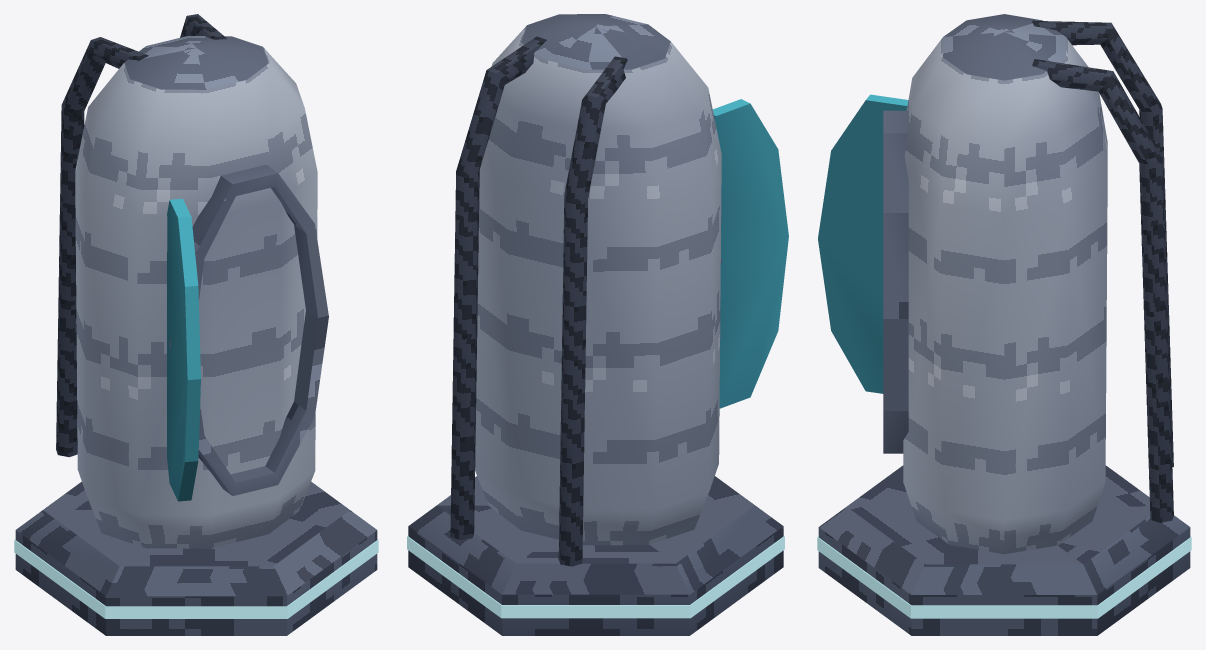
The model's file is tech.cryo_pod__open.glb.
3 renders of one model, left to right at view 1: azimuth 30°, elevation 25°; view 2: azimuth 150°, elevation 25°; view 3: azimuth 270°, elevation 25°, orthographic. The views are drawn at different scales.
Parts seen in each view (by area): view 1: kit_shell, kit_plinth, kit_frame, kit_hoses, kit_window, kit_band; view 2: kit_shell, kit_plinth, kit_hoses, kit_window, kit_band; view 3: kit_shell, kit_plinth, kit_hoses, kit_window, kit_frame, kit_band.
Boxes of the visible parts, left/top/right/bottom form: kit_shell: left=75, top=36, right=317, bottom=548; kit_plinth: left=15, top=481, right=377, bottom=635; kit_frame: left=169, top=164, right=328, bottom=495; kit_hoses: left=56, top=14, right=226, bottom=457; kit_window: left=167, top=198, right=200, bottom=501; kit_band: left=14, top=539, right=378, bottom=618; kit_shell: left=475, top=14, right=721, bottom=545; kit_plinth: left=408, top=476, right=783, bottom=635; kit_hoses: left=450, top=36, right=627, bottom=566; kit_window: left=712, top=99, right=788, bottom=408; kit_band: left=407, top=536, right=784, bottom=618; kit_shell: left=903, top=14, right=1107, bottom=554; kit_plinth: left=818, top=465, right=1190, bottom=635; kit_hoses: left=1032, top=20, right=1173, bottom=522; kit_window: left=818, top=94, right=908, bottom=393; kit_frame: left=883, top=110, right=908, bottom=453; kit_band: left=817, top=536, right=1191, bottom=618.
Size of the model in its own units: 1.15 by 2.1 by 1.33.
Materials: 7 (6 with a texture image).
